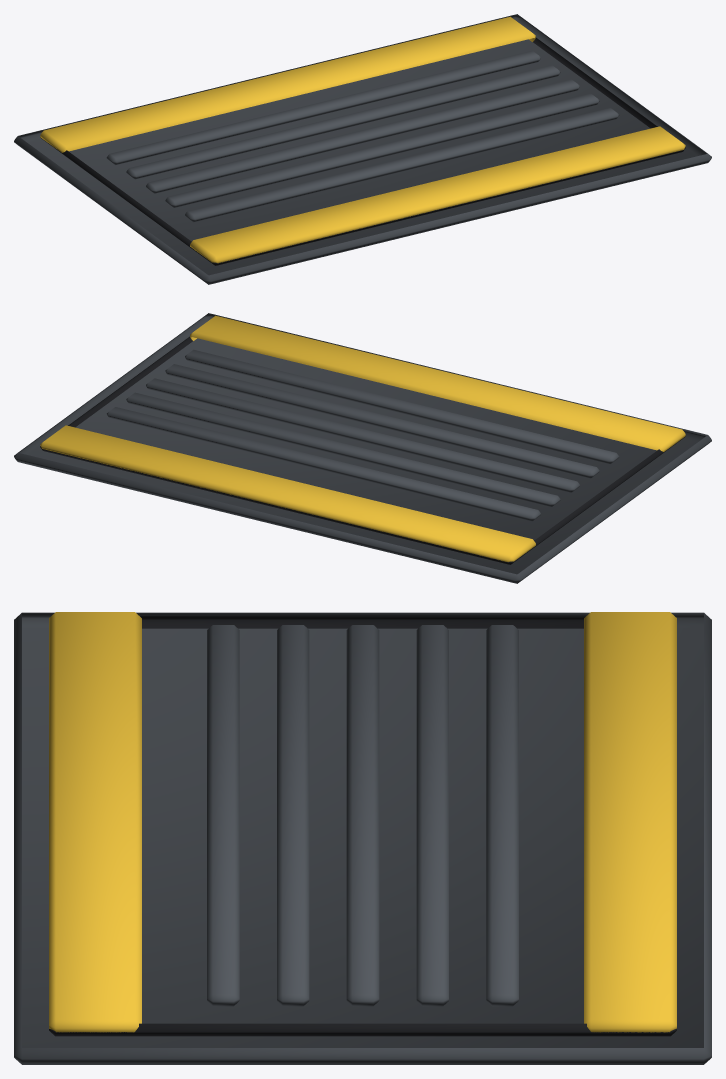
File: SM_FloorMat_01.glb
3 renders of one model, top to bottom at view 1: azimuth 30°, elevation 25°; view 2: azimuth 150°, elevation 25°; view 3: azimuth 270°, elevation 25°, orthographic. The views are drawn at different scales.
Visible parts, largest first — view 1: SM_FloorMat_01; view 2: SM_FloorMat_01; view 3: SM_FloorMat_01.
Part boxes in pixels (left/top/right/bottom): SM_FloorMat_01: left=14, top=14, right=711, bottom=284; SM_FloorMat_01: left=14, top=313, right=711, bottom=583; SM_FloorMat_01: left=14, top=612, right=711, bottom=1064.
Size of the model in its own units: 0.9 by 0.036 by 0.6.
Materials: 1 (1 with a texture image).
